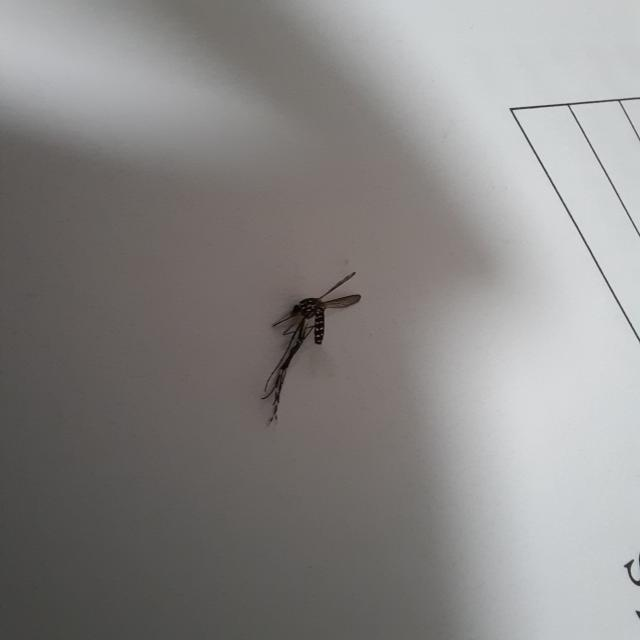albopictus: (252, 262, 368, 427)
